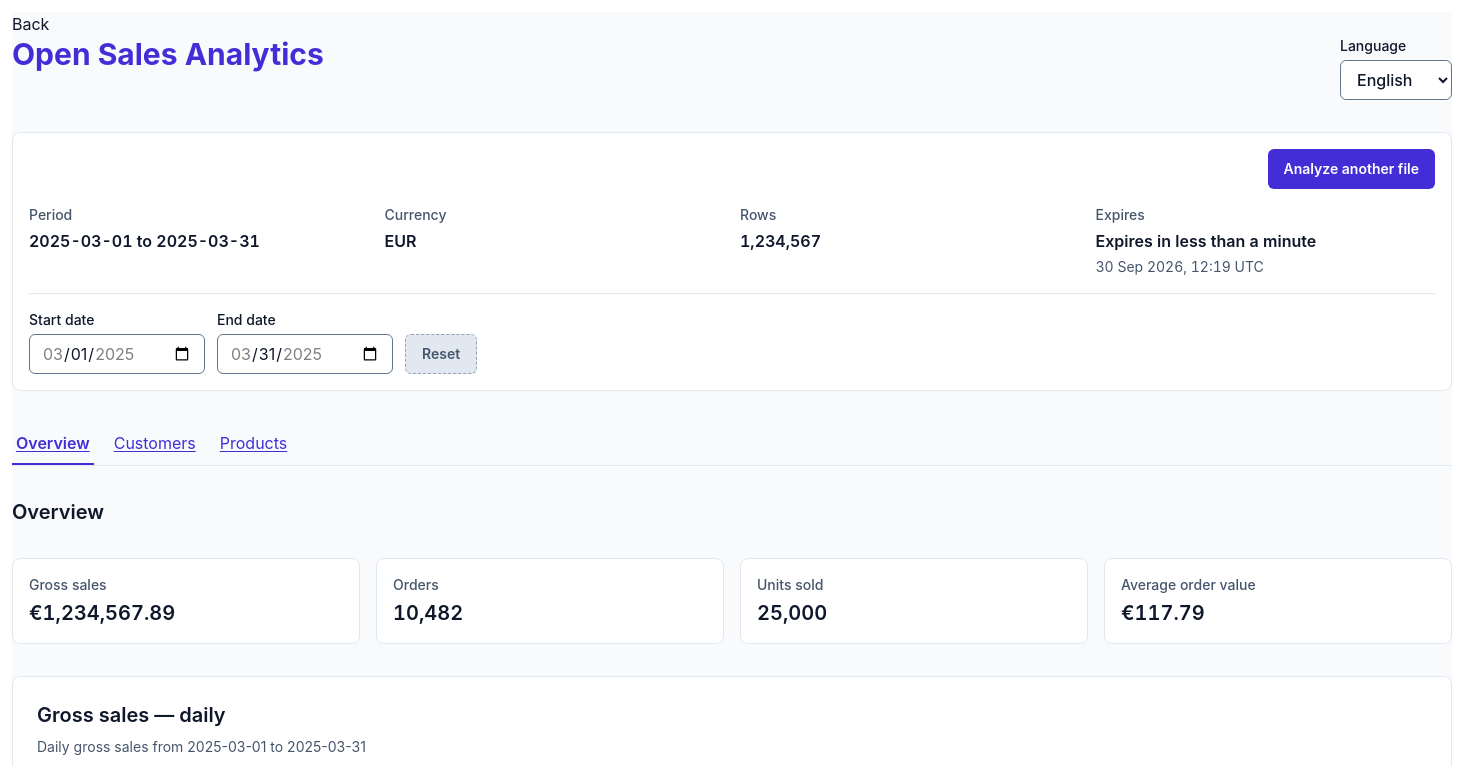
Test case: start equal to end is accepted and sends a request
Expected: the date field showing "2025-03-01" is shown, [29, 334, 205, 374]
Expected: the text "10,482" is shown, [393, 601, 463, 625]
Type "2025-03-15" into the date field labelled "End date" at (305, 354), box [217, 334, 393, 374]
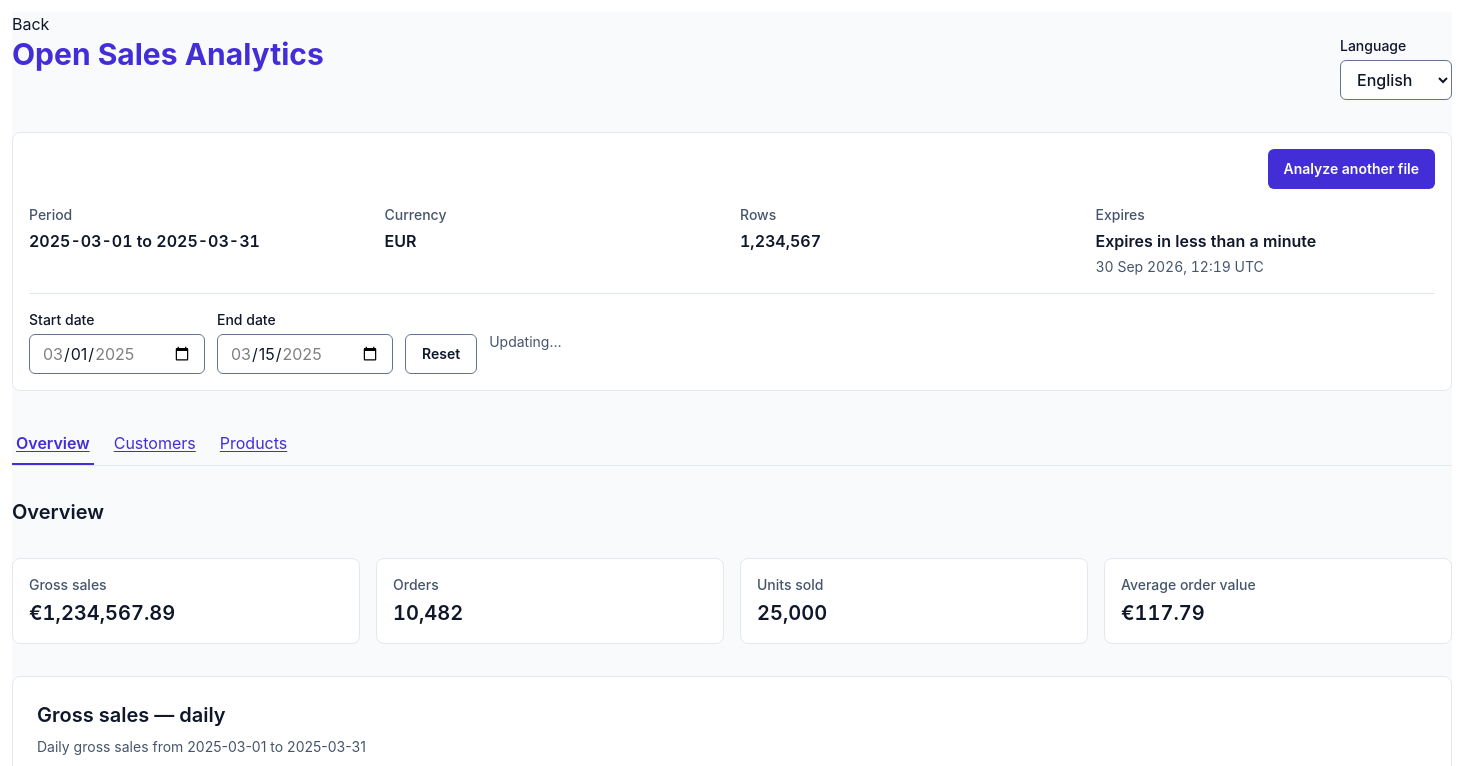
Type "2025-03-15" into the date field labelled "Start date" at (117, 354), box [29, 334, 205, 374]
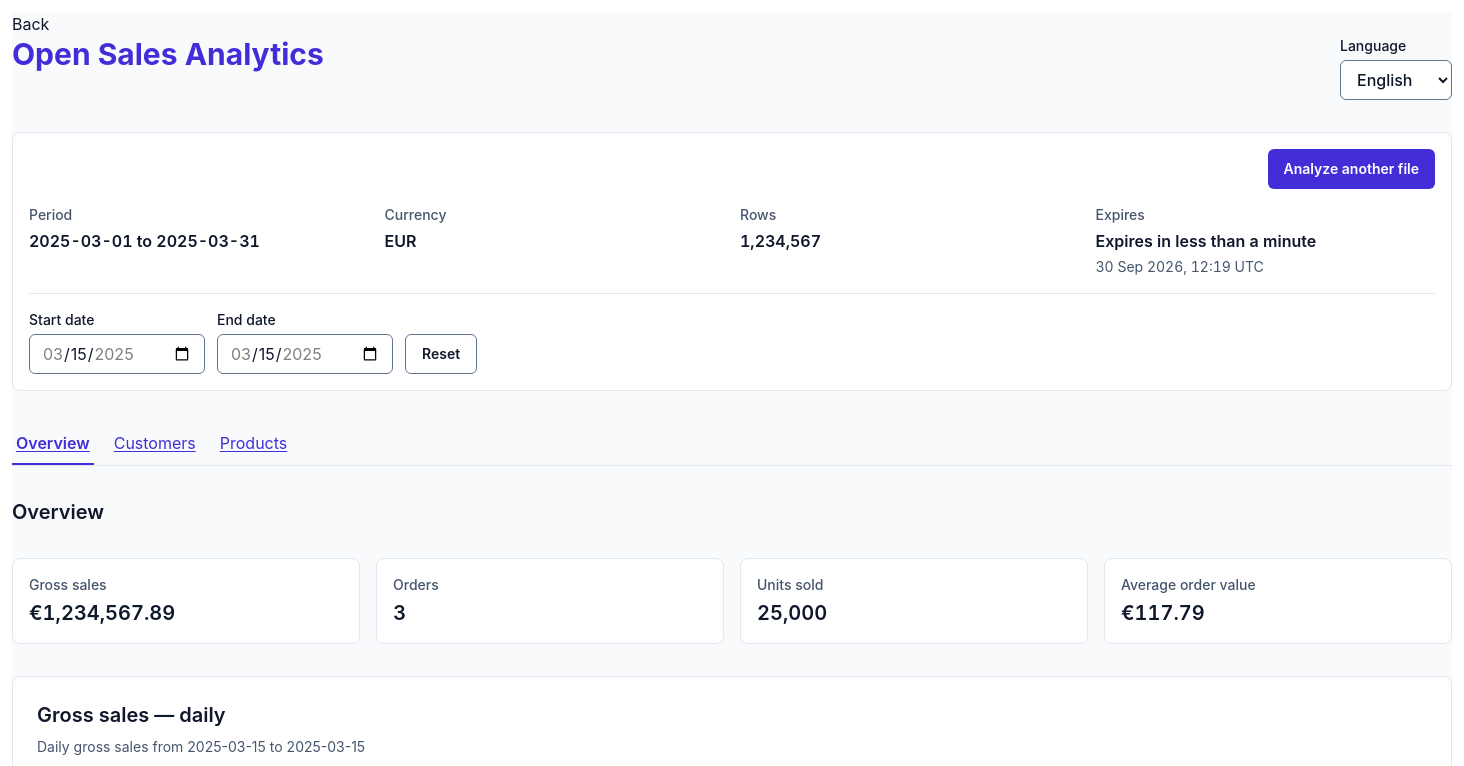
Expected: the message "Updating…" is gone
